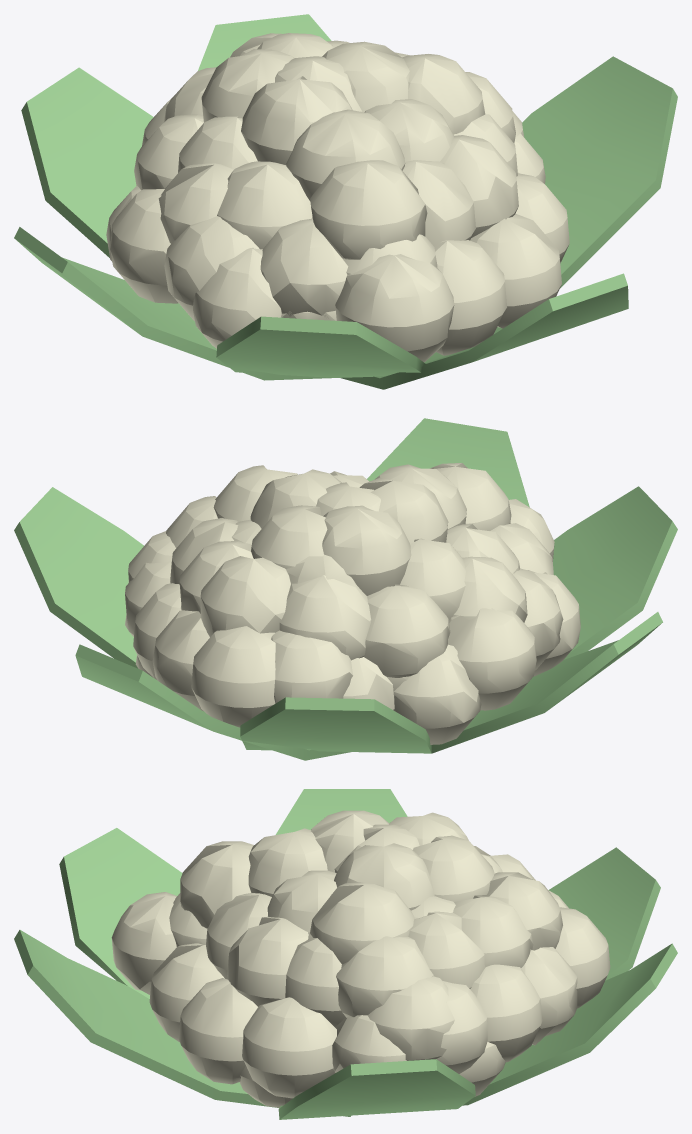
The model's file is KARFIOL.fbx.
The picture shows the model from 3 angles, top to bottom: view 1: azimuth 30°, elevation 25°; view 2: azimuth 150°, elevation 25°; view 3: azimuth 270°, elevation 25°; orthographic projection. The views are drawn at different scales.
Parts seen in each view (by area): view 1: polySurface129; view 2: polySurface129; view 3: polySurface129.
Part boxes in pixels (bbox=[...]): polySurface129: bbox=[14, 14, 677, 389]; polySurface129: bbox=[14, 418, 677, 760]; polySurface129: bbox=[14, 789, 677, 1119].
Bounding box in the file's own units: 1.05 × 0.4514 × 1.05.
